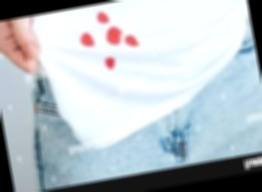blood: (104, 26, 124, 46), (79, 32, 95, 49), (123, 33, 139, 48), (96, 11, 110, 26), (104, 56, 116, 70)
